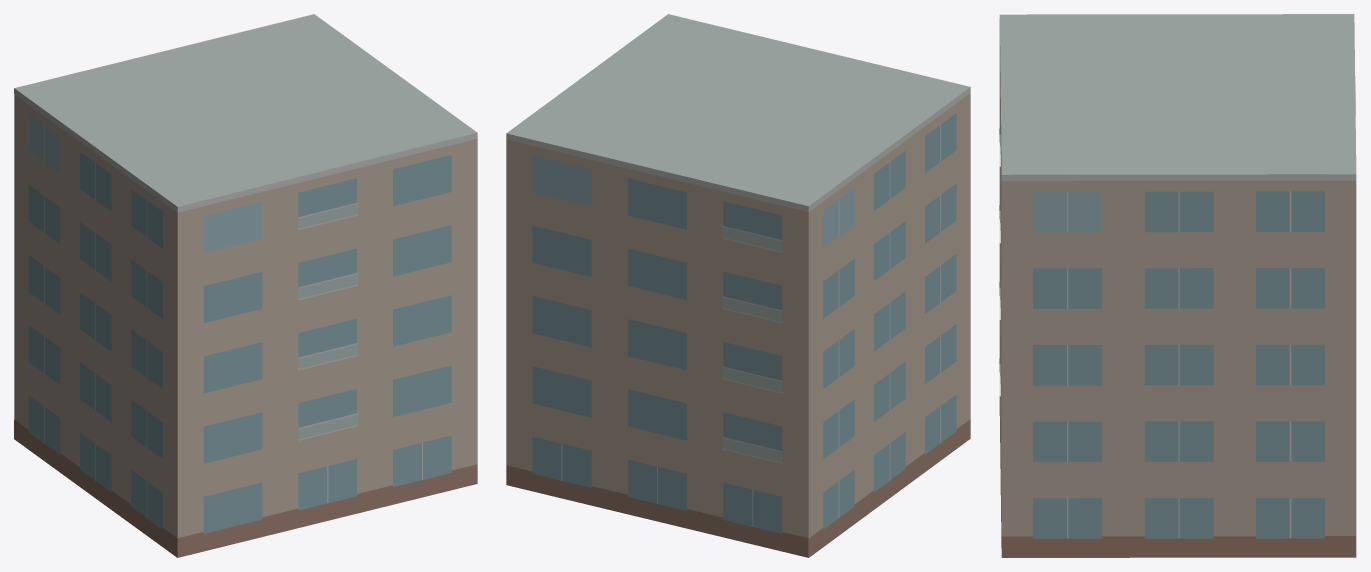
Rendered from survey-upis-33042504.glb.
3 views of the same model, side by side, from view 1: azimuth 30°, elevation 25°; view 2: azimuth 150°, elevation 25°; view 3: azimuth 270°, elevation 25° (orthographic). The views are drawn at different scales.
Visible parts, largest first — view 1: survey-upis-33042504.tmp; view 2: survey-upis-33042504.tmp; view 3: survey-upis-33042504.tmp.
Part boxes in pixels (x1,y1,x2,y2): survey-upis-33042504.tmp: (14, 14, 477, 557); survey-upis-33042504.tmp: (506, 14, 970, 557); survey-upis-33042504.tmp: (999, 14, 1356, 557).
Bounding box in the file's own units: 13.06 × 14.5 × 12.25.
